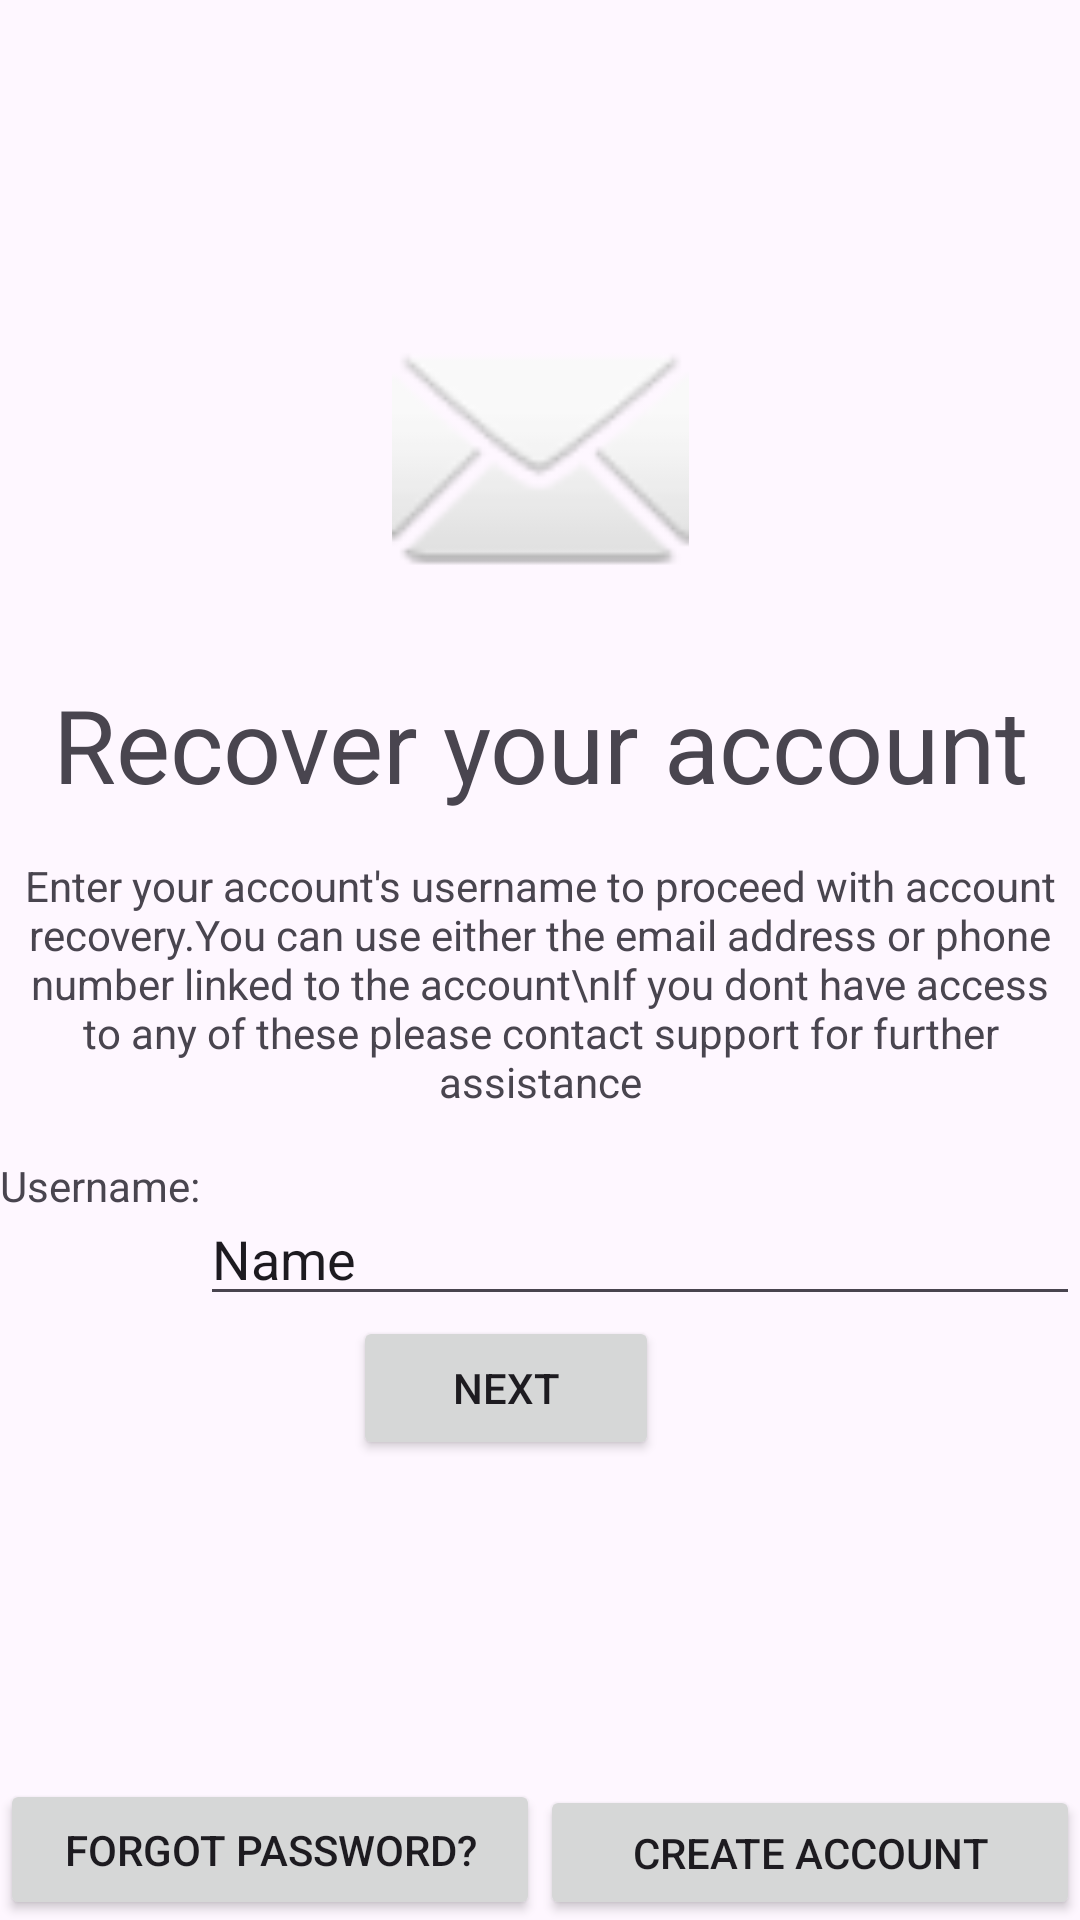

Screen size 1080 × 1920. Icon name, then its box in pixels as [left=x1, top=y1, right=x2, bottom=y2]:
email: [left=392, top=360, right=689, bottom=564]
